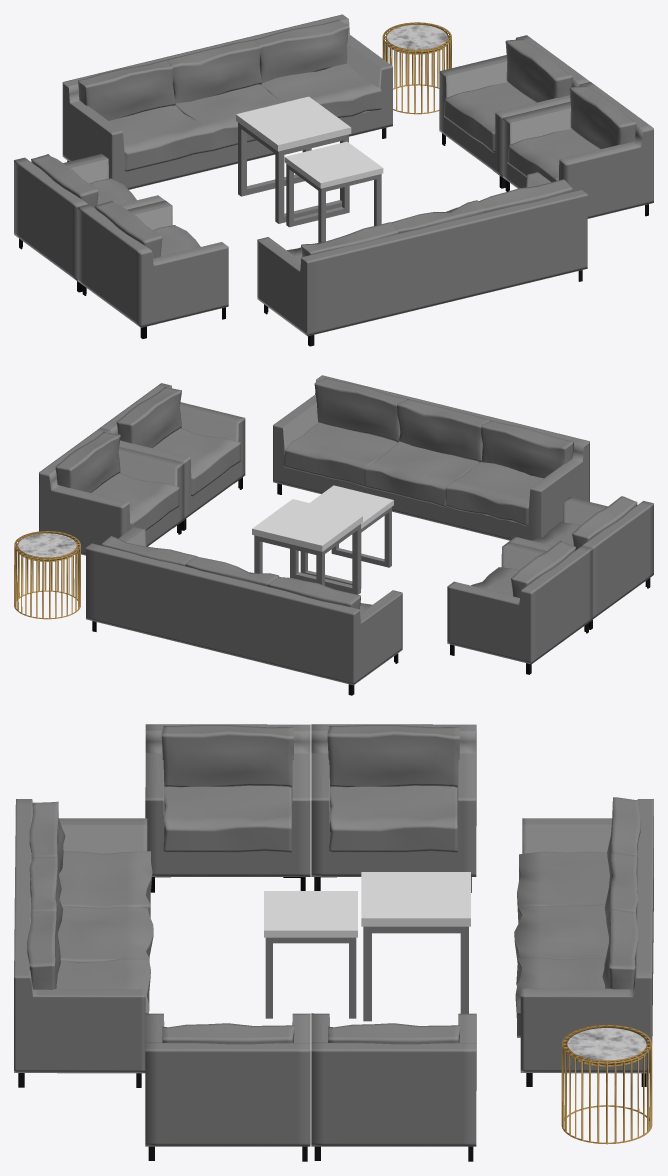
Rendered from SofaSet.fbx.
3 renders of one model, top to bottom at view 1: azimuth 30°, elevation 25°; view 2: azimuth 150°, elevation 25°; view 3: azimuth 270°, elevation 25°, orthographic. The views are drawn at different scales.
Parts seen in each view (by area): view 1: LongSofa.001, LongSofa, DubbleSmallSofa, SmallSofa, SmallSofa.001, Table, SmallTable, CicleTable; view 2: LongSofa, LongSofa.001, DubbleSmallSofa, SmallSofa.001, SmallSofa, Table, CicleTable, SmallTable; view 3: DubbleSmallSofa, LongSofa, LongSofa.001, SmallSofa, SmallSofa.001, Table, CicleTable, SmallTable.
Part boxes in pixels (<box>): LongSofa.001: <box>62,14,392,189</box>; LongSofa: <box>257,172,587,346</box>; DubbleSmallSofa: <box>14,153,228,338</box>; SmallSofa: <box>503,82,653,218</box>; SmallSofa.001: <box>439,35,589,188</box>; Table: <box>236,96,351,223</box>; SmallTable: <box>284,141,383,242</box>; CicleTable: <box>382,22,451,114</box>; LongSofa: <box>273,375,589,540</box>; LongSofa.001: <box>86,526,402,695</box>; DubbleSmallSofa: <box>447,496,653,674</box>; SmallSofa.001: <box>39,428,184,555</box>; SmallSofa: <box>100,383,245,530</box>; Table: <box>252,499,362,594</box>; CicleTable: <box>14,531,80,619</box>; SmallTable: <box>300,485,393,588</box>; DubbleSmallSofa: <box>145,724,476,892</box>; LongSofa: <box>14,799,153,1087</box>; LongSofa.001: <box>514,797,653,1086</box>; SmallSofa: <box>145,1013,310,1161</box>; SmallSofa.001: <box>311,1013,476,1161</box>; Table: <box>361,872,470,1021</box>; CicleTable: <box>561,1024,652,1144</box>; SmallTable: <box>264,891,357,1018</box>.
Bounding box in the file's own units: 1171 × 207 × 973.
1 material, 1 textured.
